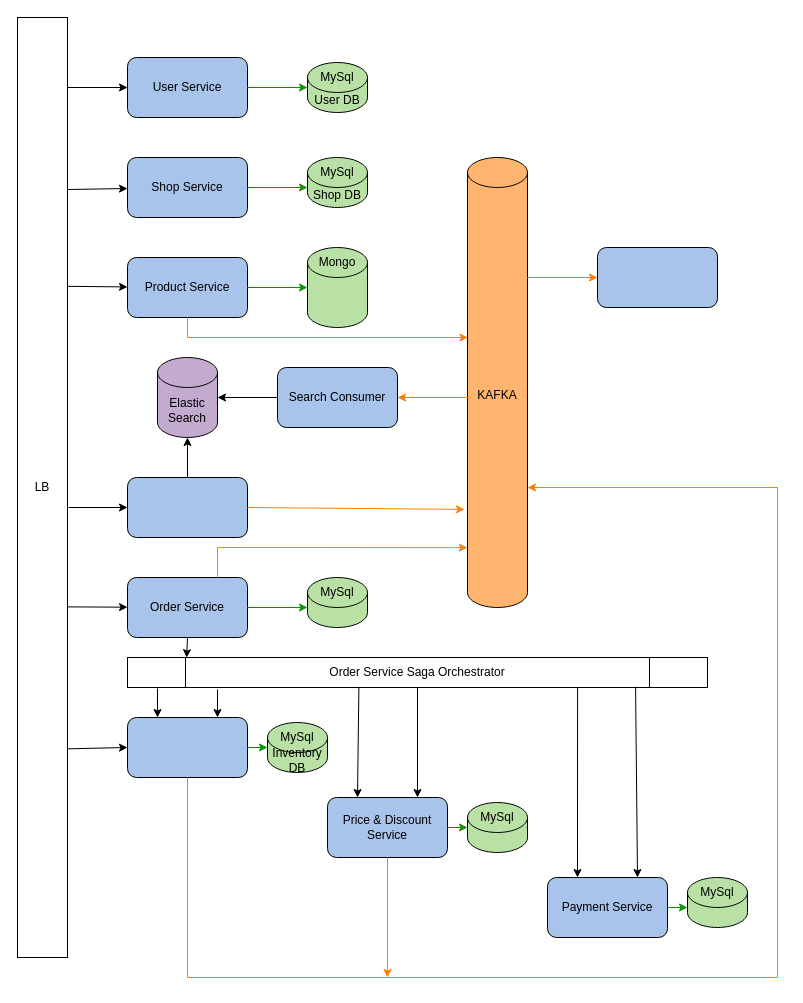
Some shapes in this 803 by 1003 pixel diagram are drawn without their labels. Here are the shapes that lost their labels. From the top down, the box of each, then its label:
(306, 246, 368, 328): Product DB
(596, 246, 718, 308): Archive Service
(126, 476, 248, 538): Search Service
(306, 576, 368, 628): Order DB
(126, 716, 248, 778): Inventory Service
(466, 802, 528, 852): Price DB
(686, 876, 748, 928): Payment DB
